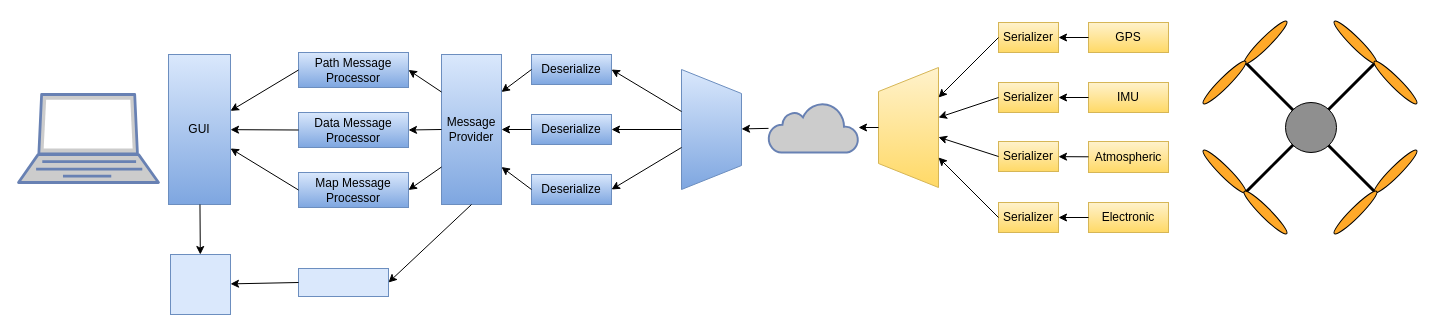
This 1438x332 diagram has some shape labels left out. The shapes that lost their labels are listed below. From the top down, each one's centre as x and y in pixels, then its label:
the point at 711,129: Channel demuxer
the point at 908,127: Channel muxer
the point at 1310,127: QC
the point at 200,284: Log
the point at 343,282: Logger
